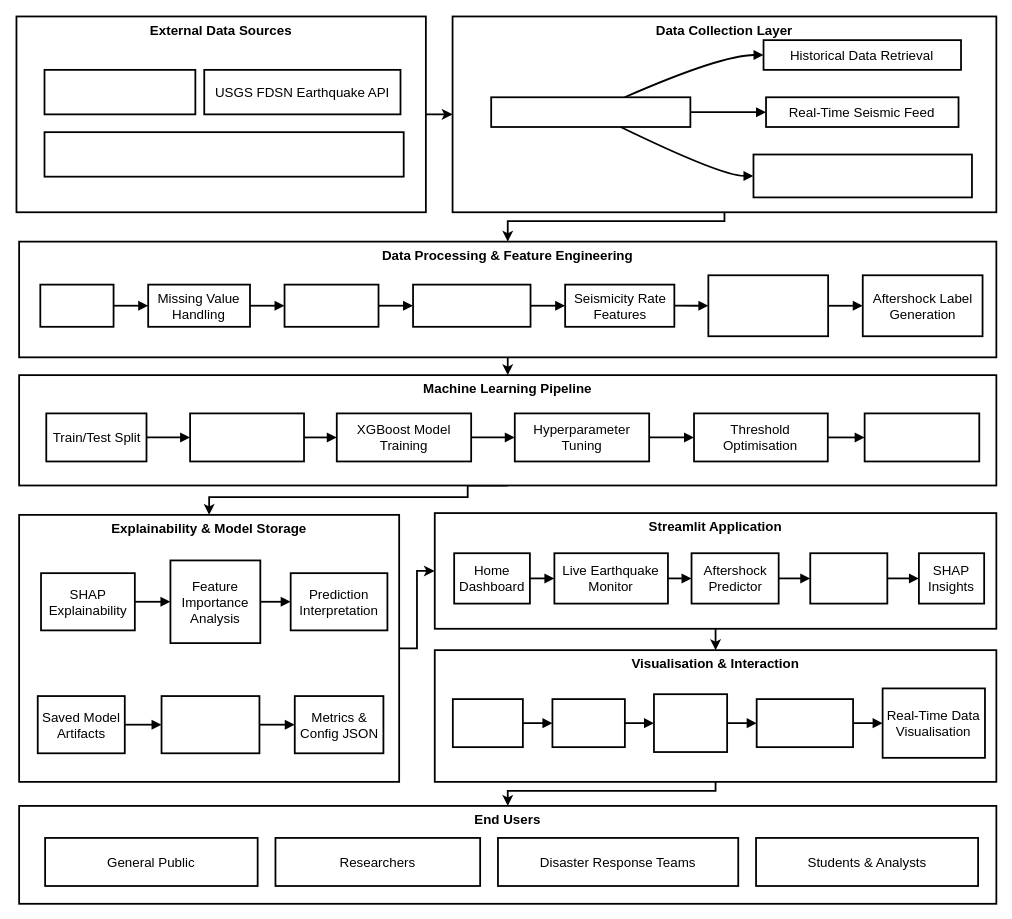
Some shapes in this 1012 by 919 pixel diagram are drawn without their labels. The shapes that lost their labels are listed below. From the top down, each one's centre as x and y in pixels, then its label:
At point 119,92: "USGS GeoJSON API".
At point 590,111: "Python Request Fetchers".
At point 223,154: "Fault Line & Geological Data".
At point 862,175: "Monthly Batch Query System".
At point 76,305: "Data Cleaning".
At point 331,305: "Feature Engineering".
At point 471,305: "Fault Proximity Calculation".
At point 768,305: "Temporal Feature Extraction".
At point 246,437: "Cross Validation".
At point 921,437: "Model Evaluation".
At point 848,578: "Seismic Analytics".
At point 210,724: "Pickle Models (.pkl)".
At point 487,723: "Interactive Maps".
At point 588,723: "Timeline Analysis".
At point 690,722: "Risk Prediction UI".
At point 804,723: "Responsive User Interface".
